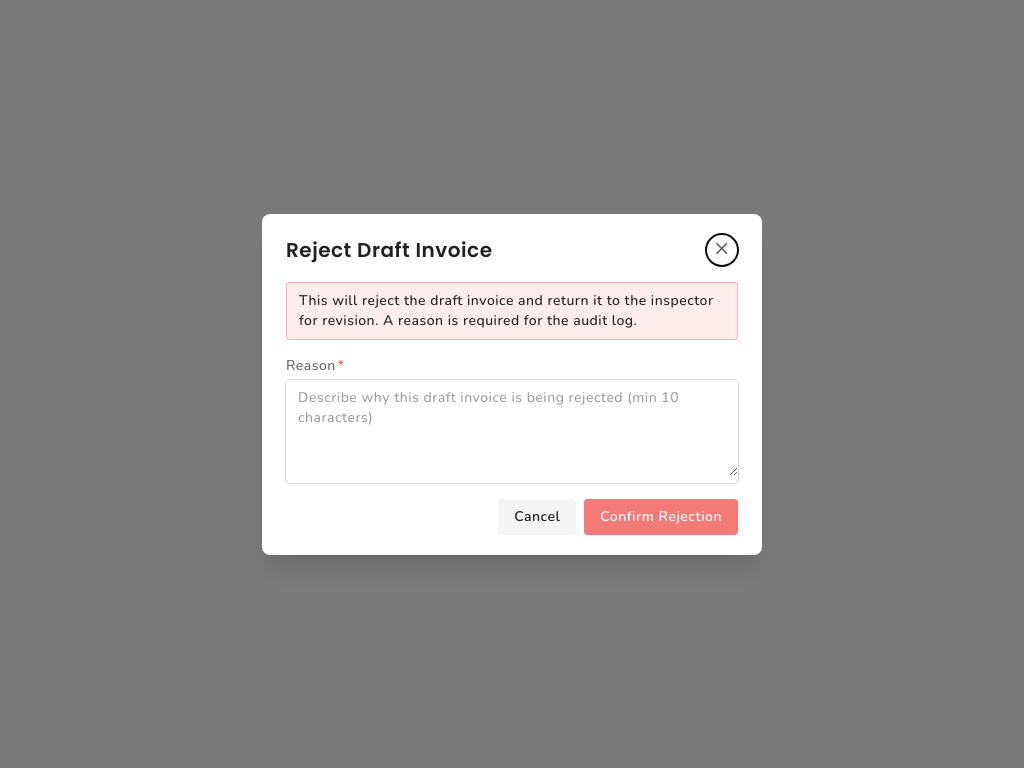
it: RejectDraftModal › shows validation error for short reason
Type "Too short" into the text box named "Reason" at (512, 428), box [286,380,738,476]
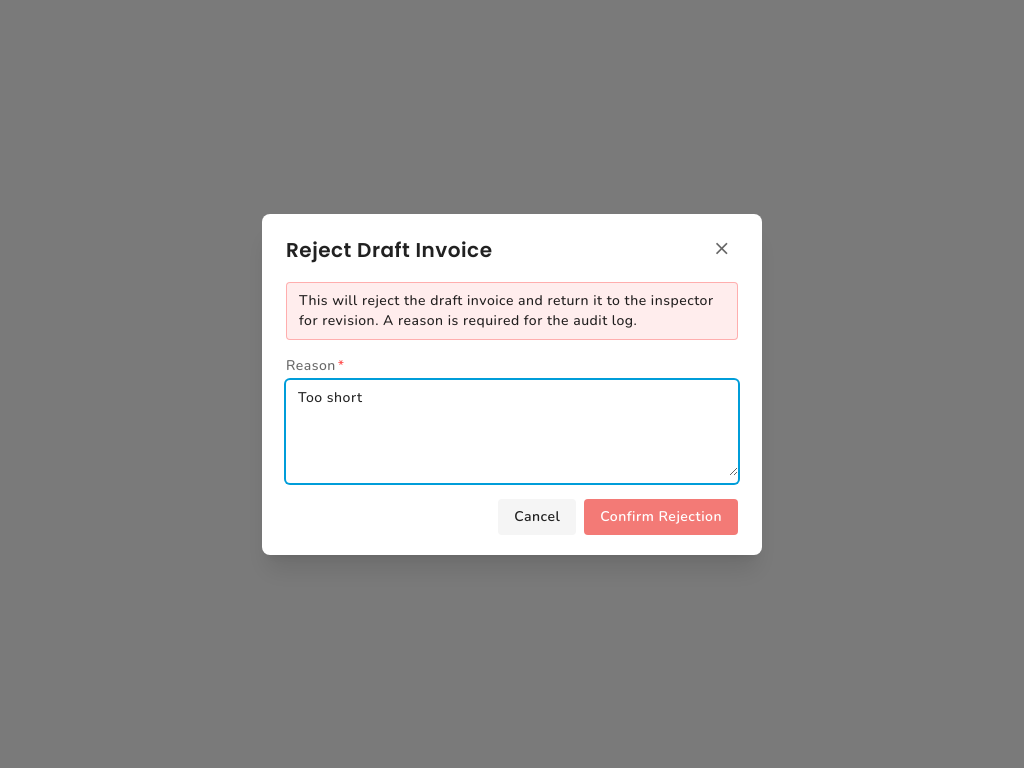
Click the button "Confirm Rejection" at (661, 516), box [584,498,738,534]
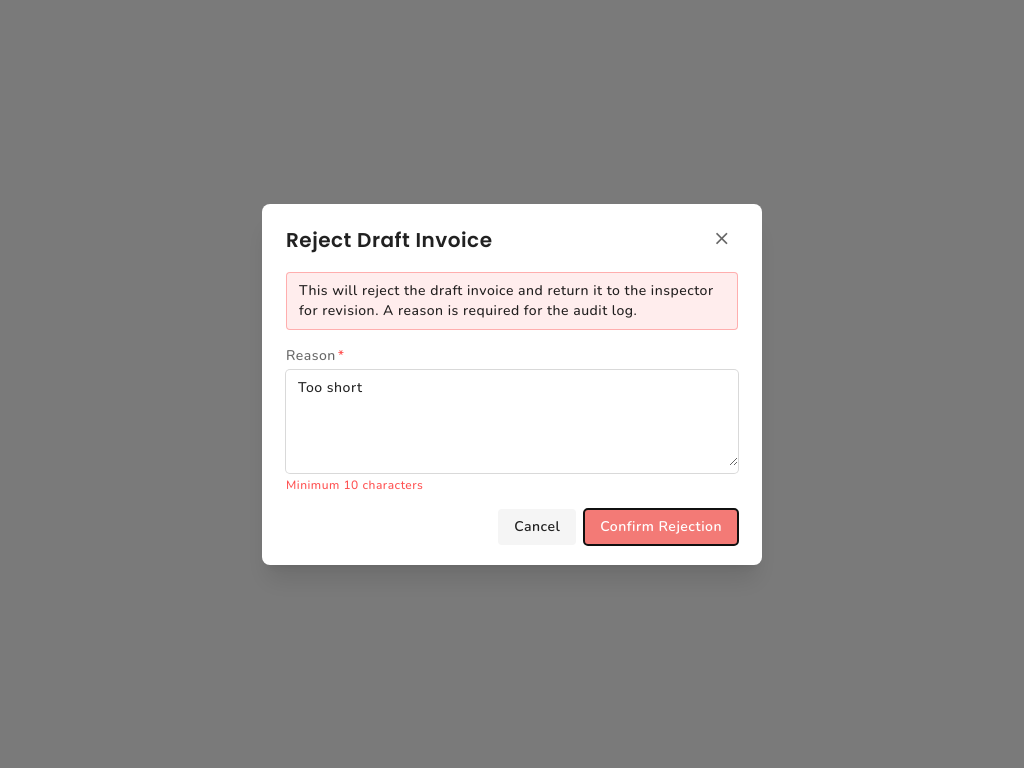
Result: the text "Minimum 10 characters" is shown at [286,476,423,492]
